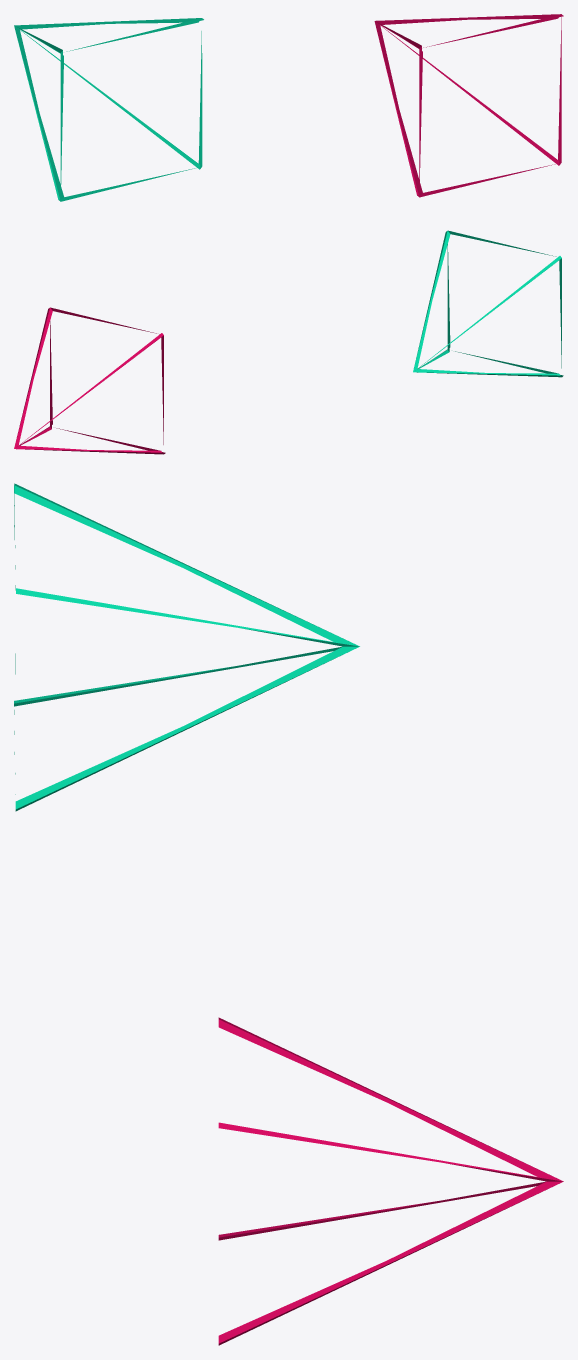
The model's file is glbscene_50_All_maskbFalse_maskwFalse_camTrue_skyFalse_predPointmap_Branch.glb.
The picture shows the model from 3 angles, top to bottom: view 1: azimuth 30°, elevation 25°; view 2: azimuth 150°, elevation 25°; view 3: azimuth 270°, elevation 25°; orthographic projection. The views are drawn at different scales.
Parts seen in each view (by area): view 1: world; view 2: world; view 3: world.
Boxes of the visible parts, x1,y1,x2,y2 form: world: (14, 14, 563, 201); world: (14, 230, 563, 454); world: (14, 483, 563, 1345).
Bounding box in the file's own units: 0.2545 × 0.1287 × 0.1418.
